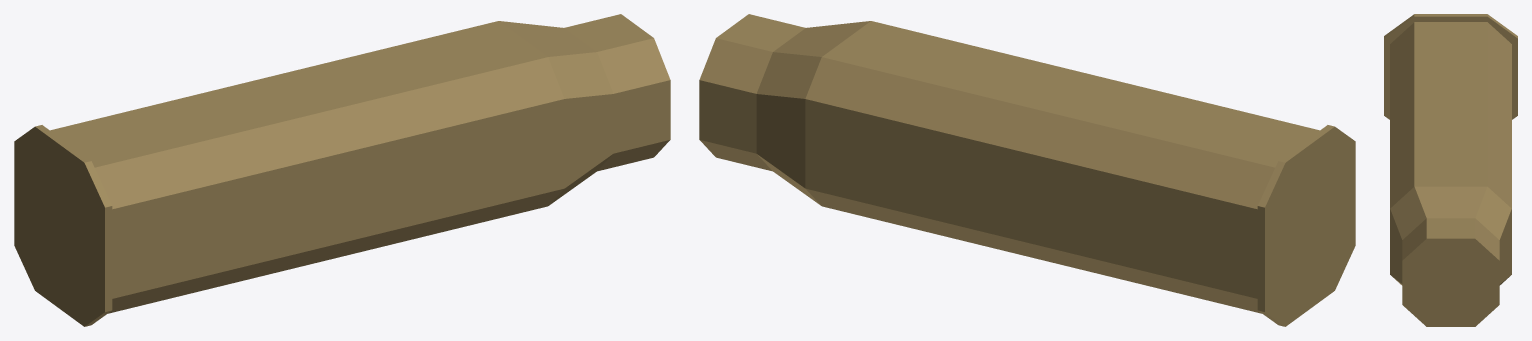
The model's file is intermediate.obj.
3 views of the same model, side by side, from view 1: azimuth 30°, elevation 25°; view 2: azimuth 150°, elevation 25°; view 3: azimuth 270°, elevation 25° (orthographic). The views are drawn at different scales.
Parts seen in each view (by area): view 1: bullet_1, bullet, bullet_14, bullet_9, bullet_3, bullet_12, bullet_13, bullet_19, bullet_4; view 2: bullet_2, bullet, bullet_14, bullet_11, bullet_5, bullet_13, bullet_12, bullet_19, bullet_4; view 3: bullet, bullet_19, bullet_1, bullet_2, bullet_9, bullet_11, bullet_4, bullet_3, bullet_5, bullet_12, bullet_13, bullet_14.
Part boxes in pixels (bbox=[...]): bullet_1: bbox=[95, 57, 564, 313]; bullet: bbox=[50, 21, 547, 167]; bullet_14: bbox=[35, 125, 90, 326]; bullet_9: bbox=[597, 38, 670, 171]; bullet_3: bbox=[548, 52, 613, 205]; bullet_12: bbox=[84, 161, 112, 326]; bullet_13: bbox=[14, 127, 34, 289]; bullet_19: bbox=[564, 14, 653, 51]; bullet_4: bbox=[499, 21, 596, 56]; bullet_2: bbox=[805, 57, 1274, 313]; bullet: bbox=[822, 21, 1319, 167]; bullet_14: bbox=[1279, 125, 1334, 326]; bullet_11: bbox=[699, 38, 772, 171]; bullet_5: bbox=[756, 52, 821, 205]; bullet_13: bbox=[1257, 161, 1285, 326]; bullet_12: bbox=[1335, 127, 1355, 289]; bullet_19: bbox=[716, 14, 805, 51]; bullet_4: bbox=[773, 21, 870, 56]; bullet: bbox=[1414, 22, 1487, 186]; bullet_19: bbox=[1426, 218, 1475, 326]; bullet_1: bbox=[1390, 22, 1414, 208]; bullet_2: bbox=[1487, 22, 1511, 208]; bullet_9: bbox=[1402, 218, 1426, 326]; bullet_11: bbox=[1475, 218, 1499, 326]; bullet_4: bbox=[1415, 186, 1486, 218]; bullet_3: bbox=[1390, 187, 1426, 285]; bullet_5: bbox=[1475, 187, 1511, 285]; bullet_12: bbox=[1384, 14, 1414, 119]; bullet_13: bbox=[1487, 14, 1517, 119]; bullet_14: bbox=[1414, 14, 1487, 21].
Size of the model in its own units: 2.03 by 0.55 by 0.55.
